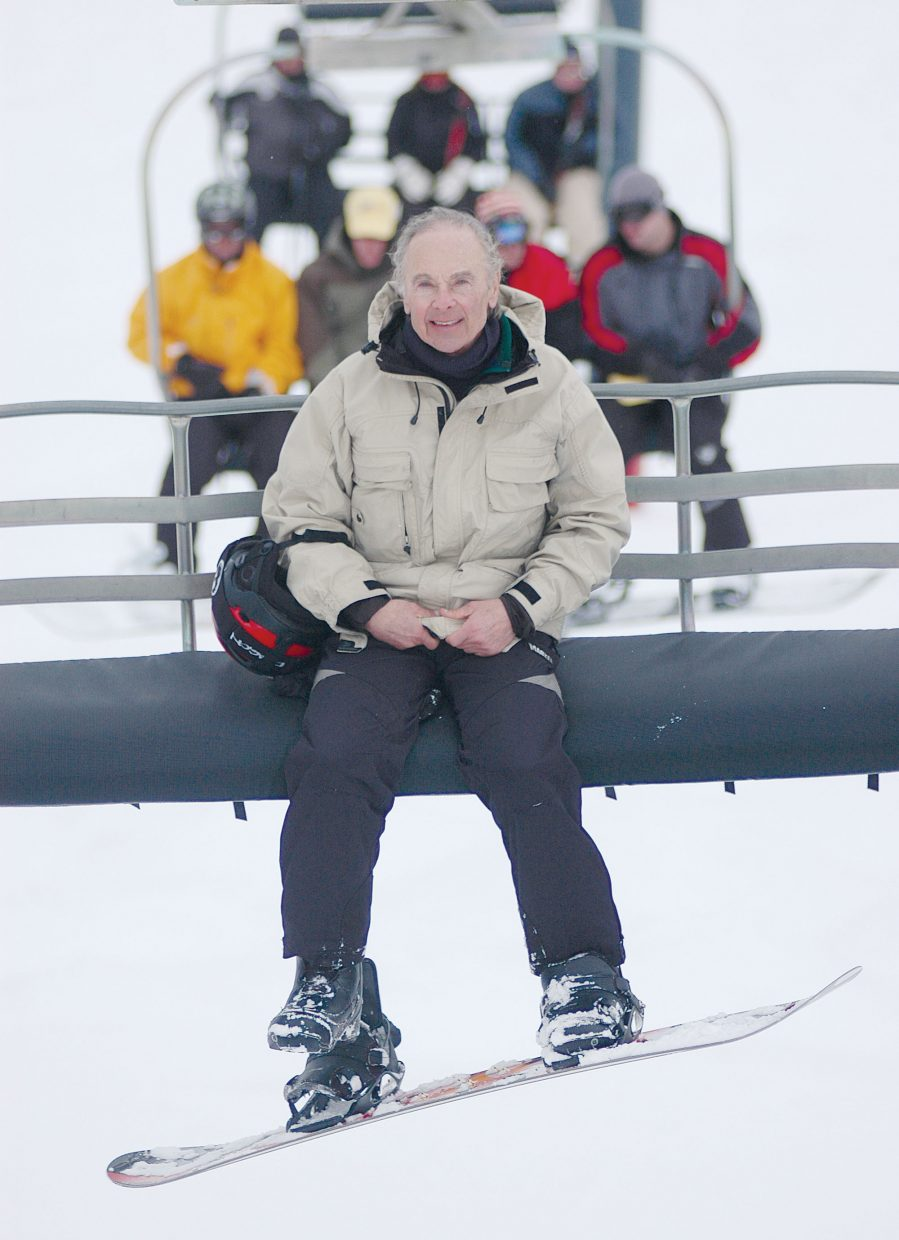snowboarder: (192, 217, 832, 1141)
